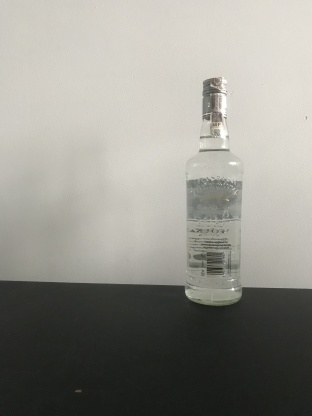nakretka: (200, 75, 229, 121)
